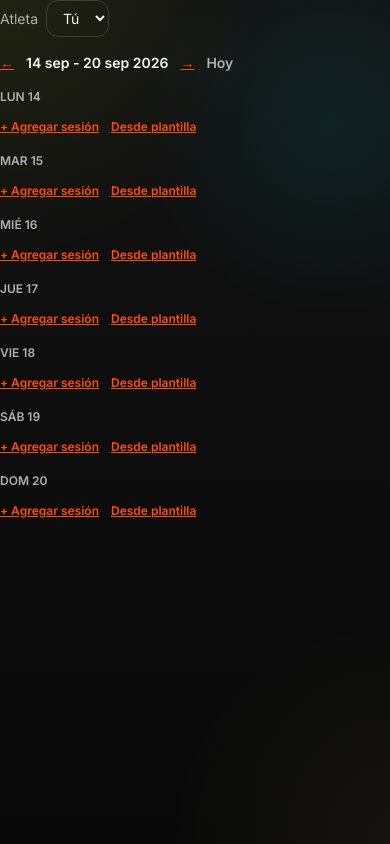
Test case: CoachPlanningPanel interactions › picker vacío informa que todavía no hay plantillas
Click the button "Desde plantilla" below "lun" at (154, 127), box [111,119,196,135]
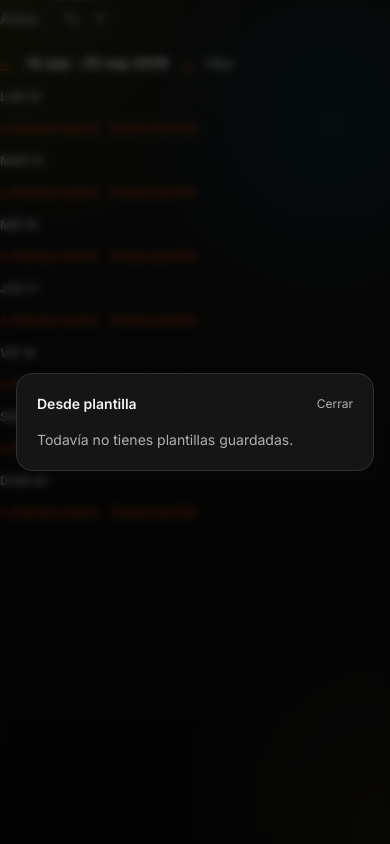
Check: the text "Todavía no tienes plantillas guardadas." is shown, box [37,431,293,448]
